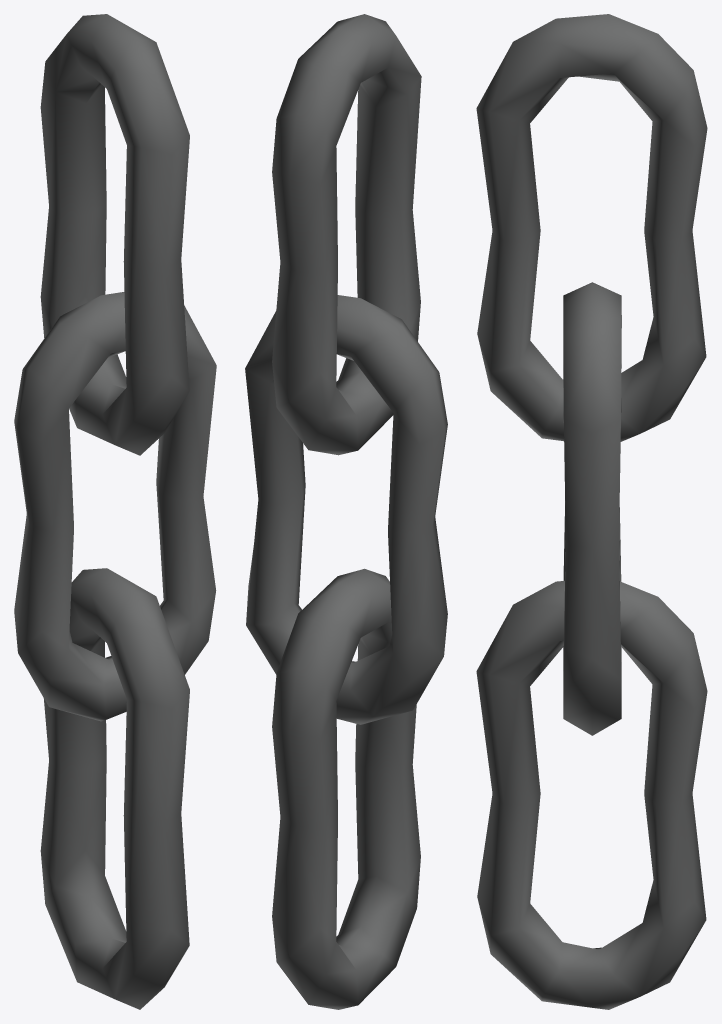
File: Chain.fbx
The picture shows the model from 3 angles, left to right: view 1: azimuth 30°, elevation 25°; view 2: azimuth 150°, elevation 25°; view 3: azimuth 270°, elevation 25°; orthographic projection.
Parts seen in each view (by area): view 1: Chain; view 2: Chain; view 3: Chain.
Part boxes in pixels (x1=…): Chain: x1=14, y1=14, x2=216, y2=1009; Chain: x1=245, y1=14, x2=447, y2=1009; Chain: x1=476, y1=14, x2=707, y2=1009.
Size of the model in its own units: 50.51 by 240 by 50.51.
